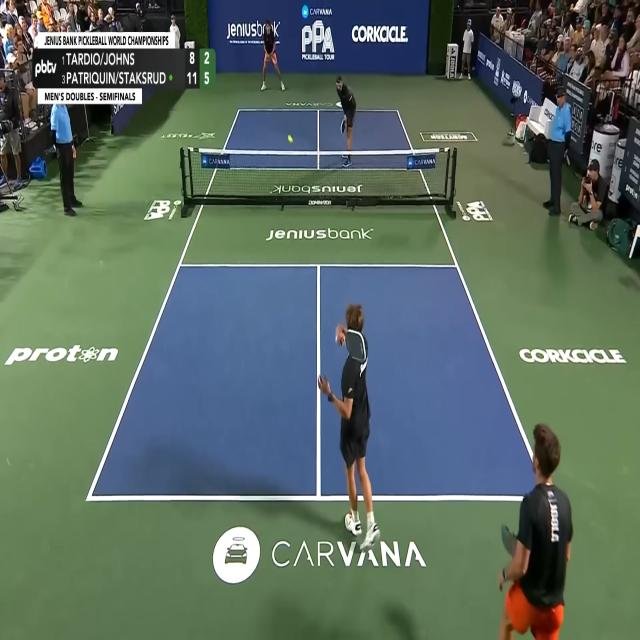ball: (288, 133, 294, 143)
